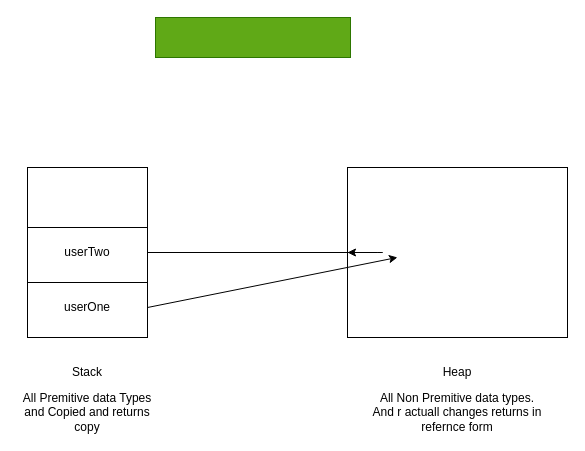
This 585x451 diagram has some shape labels left out. Here are the shapes that lost their labels. From the top down, the box of each, then its label:
(154, 16, 350, 58): Stack and heap
(346, 166, 568, 338): { email: user@gmail.com, upi: boi@upi }
